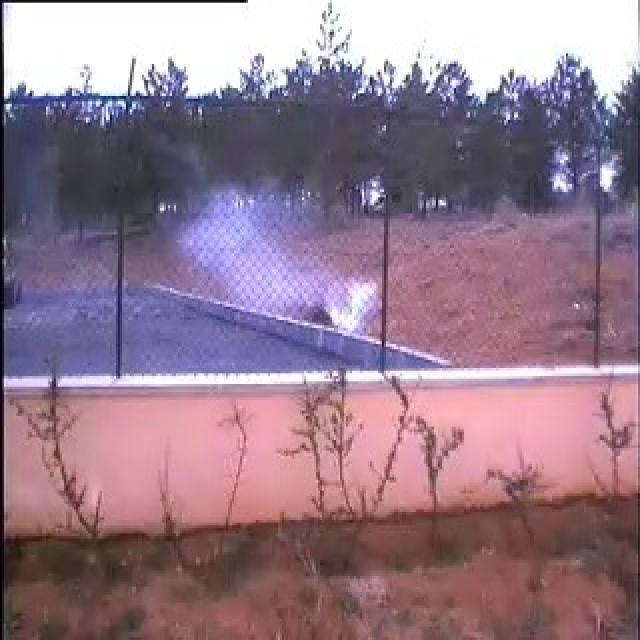smoke: (94, 188, 387, 372)
